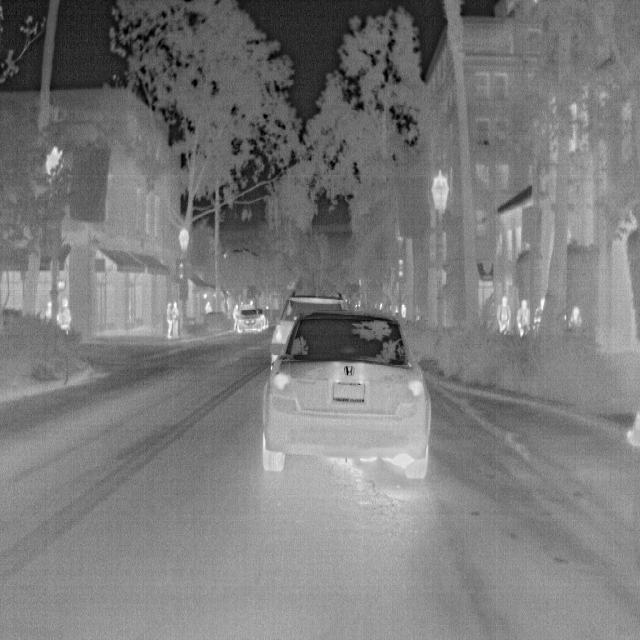Pedestrian: (495, 296, 512, 340), (57, 297, 73, 341), (516, 298, 531, 341), (532, 297, 546, 337), (568, 306, 582, 336), (171, 302, 180, 340), (166, 302, 173, 340), (232, 303, 240, 332)
Vehicle: (259, 308, 434, 482), (236, 308, 263, 334)
